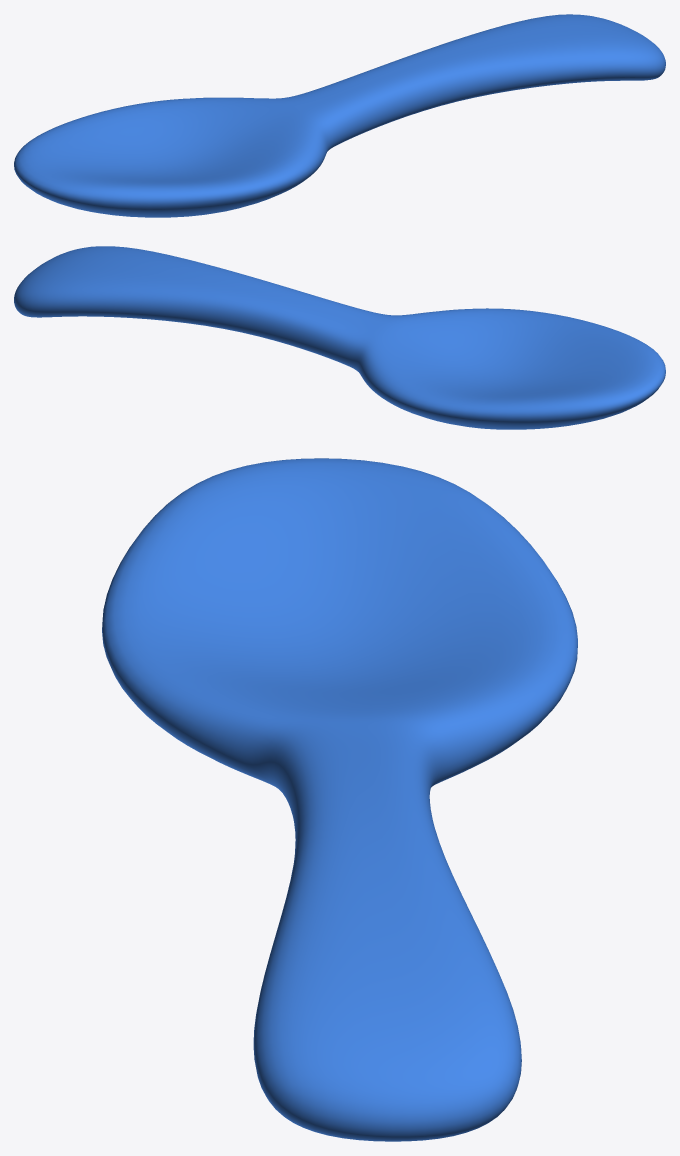
File: SM_Spoon.fbx
3 views of the same model, one above another, from view 1: azimuth 30°, elevation 25°; view 2: azimuth 150°, elevation 25°; view 3: azimuth 270°, elevation 25° (orthographic). The views are drawn at different scales.
Parts seen in each view (by area): view 1: SM_Spoon; view 2: SM_Spoon; view 3: SM_Spoon.
Part boxes in pixels (<box>): SM_Spoon: <box>14,14,665,217</box>; SM_Spoon: <box>14,246,665,429</box>; SM_Spoon: <box>102,458,577,1141</box>.
Bounding box in the file's own units: 56 × 5.91 × 18.79.
